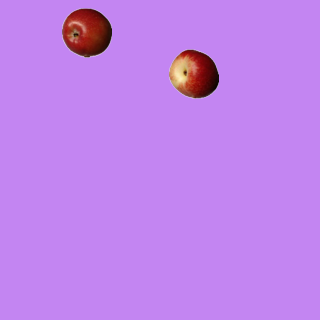Apple Braeburn: (61, 7, 111, 57)
Nectarine: (168, 48, 218, 98)
